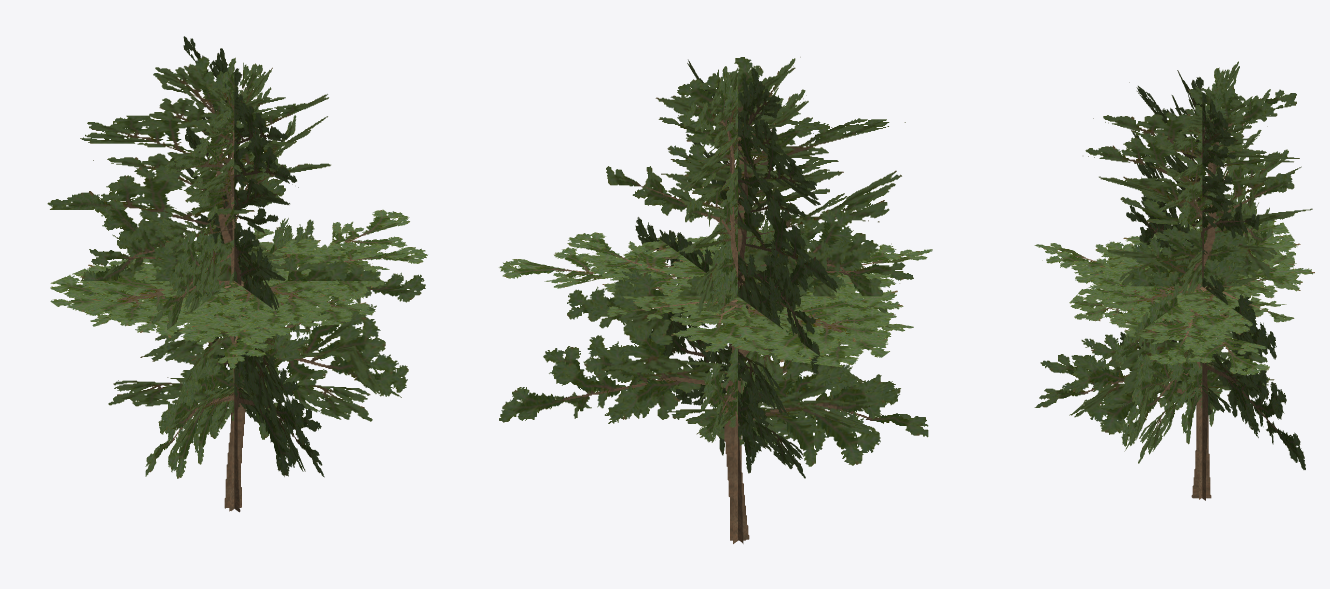
The picture shows the model from 3 angles, left to right: view 1: azimuth 30°, elevation 25°; view 2: azimuth 150°, elevation 25°; view 3: azimuth 270°, elevation 25°; orthographic projection. The views are drawn at different scales.
Parts seen in each view (by area): view 1: Pine_small_2_Billboard_LOD3_Pine_small_2_Billboard_Mat_0; view 2: Pine_small_2_Billboard_LOD3_Pine_small_2_Billboard_Mat_0; view 3: Pine_small_2_Billboard_LOD3_Pine_small_2_Billboard_Mat_0.
Boxes of the visible parts, x1,y1,x2,y2 form: Pine_small_2_Billboard_LOD3_Pine_small_2_Billboard_Mat_0: [47, 36, 427, 512]; Pine_small_2_Billboard_LOD3_Pine_small_2_Billboard_Mat_0: [499, 57, 932, 543]; Pine_small_2_Billboard_LOD3_Pine_small_2_Billboard_Mat_0: [1034, 61, 1314, 500].
Size of the model in its own units: 3.32 by 4 by 2.43.
